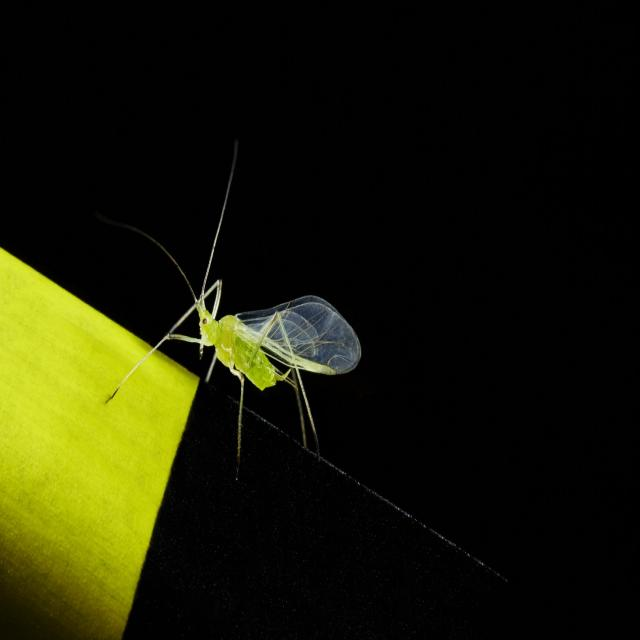Aphid-Grown-have wings-: (153, 221, 378, 459)
